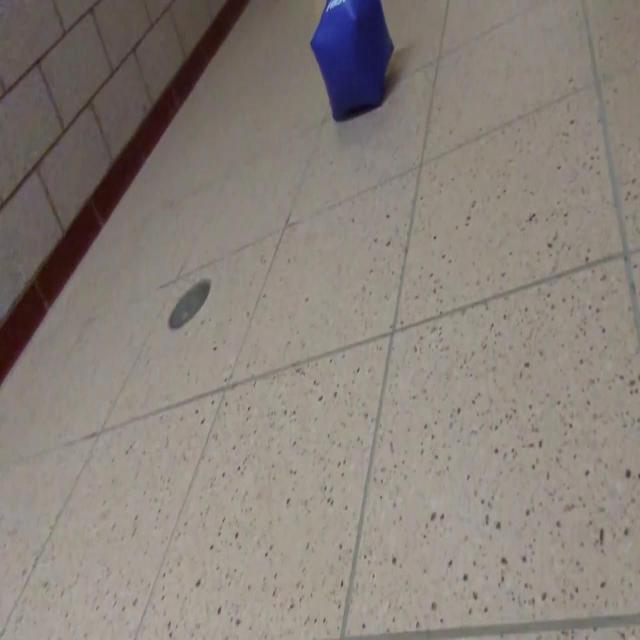frc_cube: (308, 0, 396, 118)
